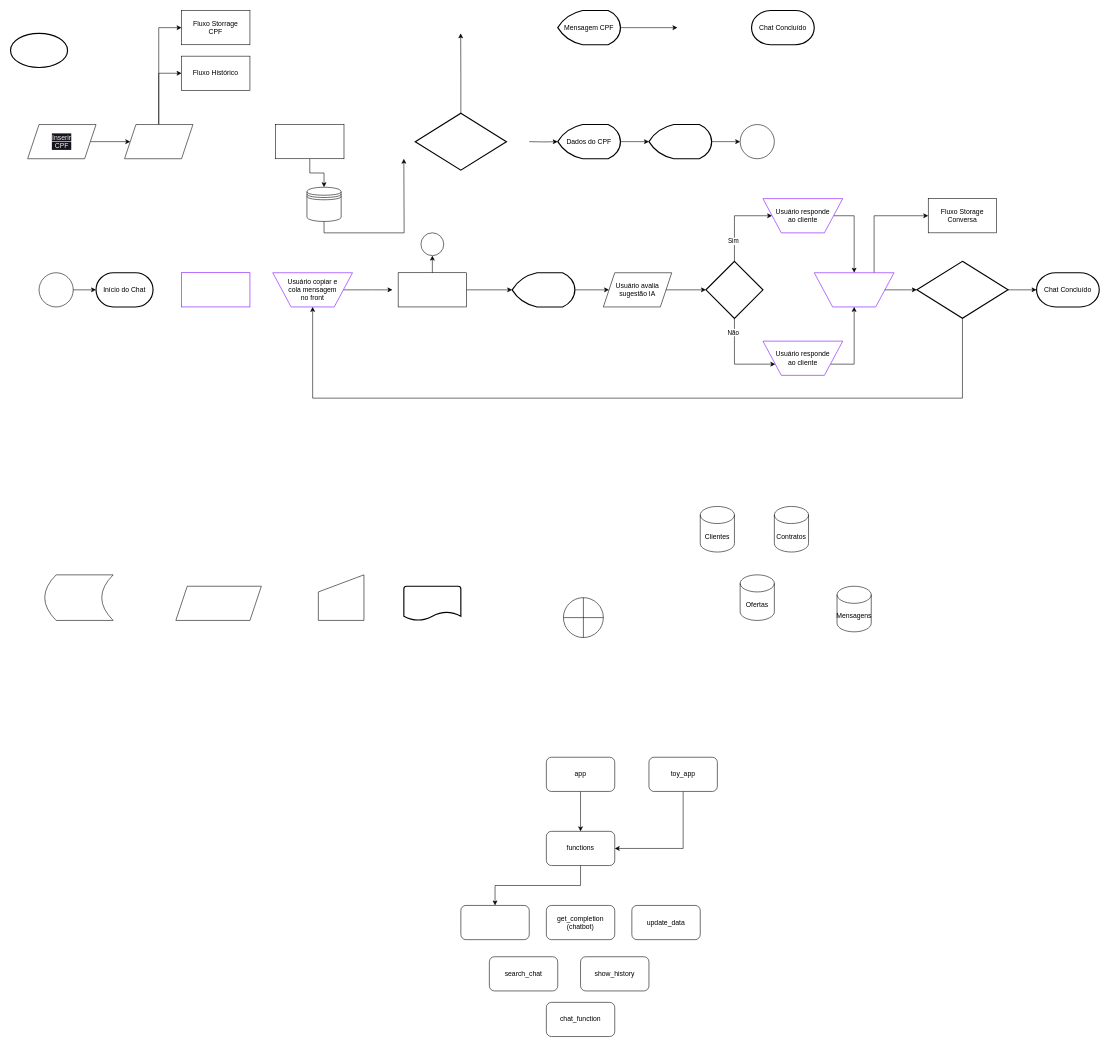
This 1109x1047 diagram has some shape labels left out. The shapes that lost their labels are listed below. From the top down, each one's centre as x and y in pixels, then its label:
point (158, 141): Inserir Assunto
point (309, 141): Busca Dados do CPF
point (460, 141): CPF encontrado?
point (680, 141): Função Chat
point (215, 289): Cliente envia mensagem
point (432, 289): Fluxo IA
point (543, 289): Sugestão IA
point (734, 289): Nota > 2
point (854, 289): Usuário enviar resposta ao cliente
point (962, 289): Nova mensagem cliente?
point (218, 603): Inserir mensagem do cliente
point (432, 603): Script
point (494, 922): save_conversations
